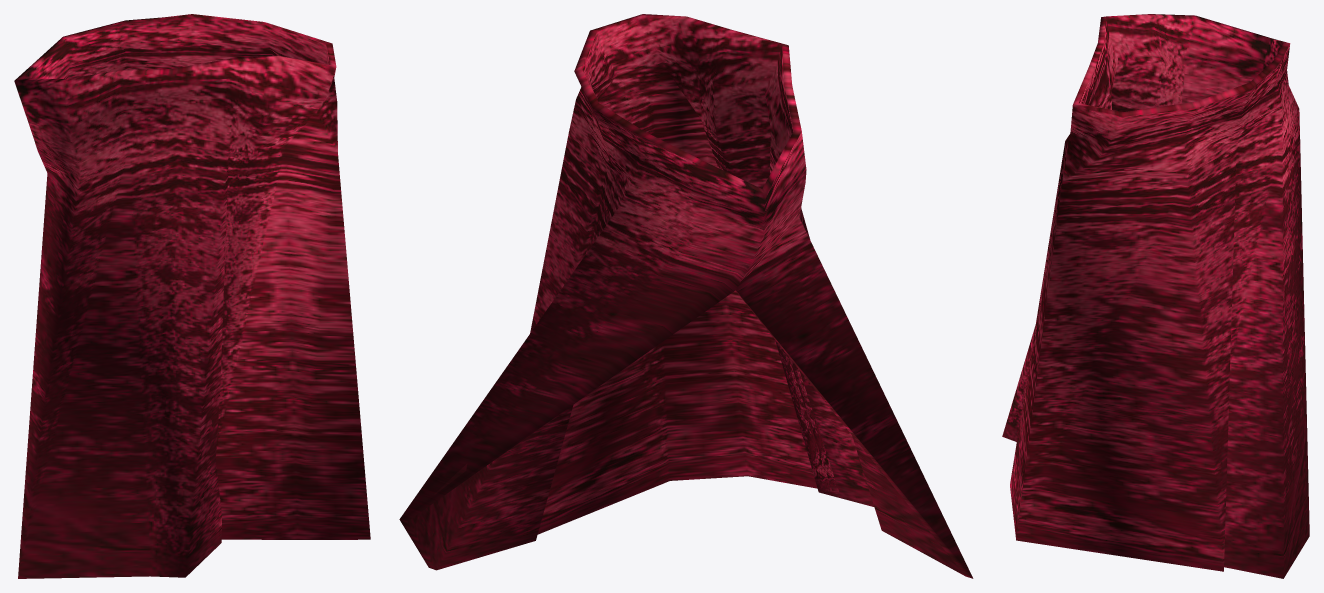
File: m-bottom7.fbx
3 renders of one model, left to right at view 1: azimuth 30°, elevation 25°; view 2: azimuth 150°, elevation 25°; view 3: azimuth 270°, elevation 25°, orthographic. The views are drawn at different scales.
Visible parts, largest first — view 1: M.Bottom.Shor.010; view 2: M.Bottom.Shor.010; view 3: M.Bottom.Shor.010.
Part boxes in pixels (bbox=[...]): M.Bottom.Shor.010: bbox=[14, 14, 370, 578]; M.Bottom.Shor.010: bbox=[399, 14, 973, 578]; M.Bottom.Shor.010: bbox=[1002, 14, 1309, 578].
Size of the model in its own units: 448 by 495 by 302.
